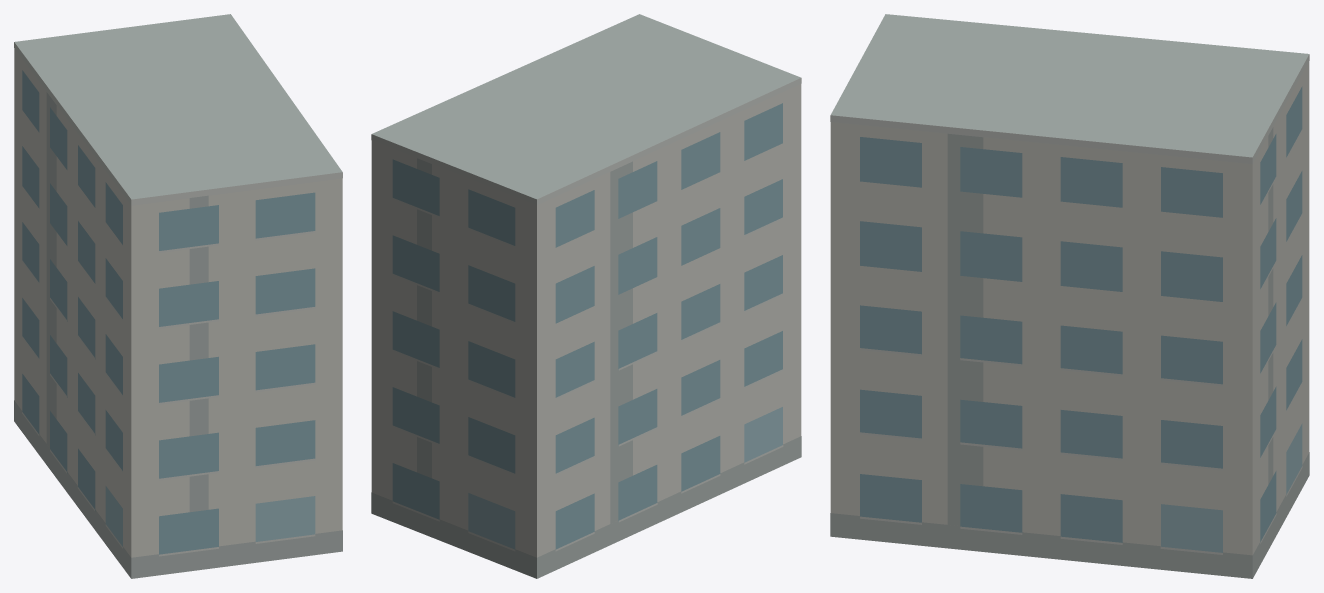
File: survey-upis-32511216.glb
3 renders of one model, left to right at view 1: azimuth 30°, elevation 25°; view 2: azimuth 150°, elevation 25°; view 3: azimuth 270°, elevation 25°, orthographic. The views are drawn at different scales.
Parts seen in each view (by area): view 1: survey-upis-32511216.tmp; view 2: survey-upis-32511216.tmp; view 3: survey-upis-32511216.tmp.
Part boxes in pixels (x1,y1,x2,y2): survey-upis-32511216.tmp: [14, 14, 342, 578]; survey-upis-32511216.tmp: [371, 14, 801, 578]; survey-upis-32511216.tmp: [830, 14, 1309, 578].
Bounding box in the file's own units: 11.07 × 15.15 × 15.62.
